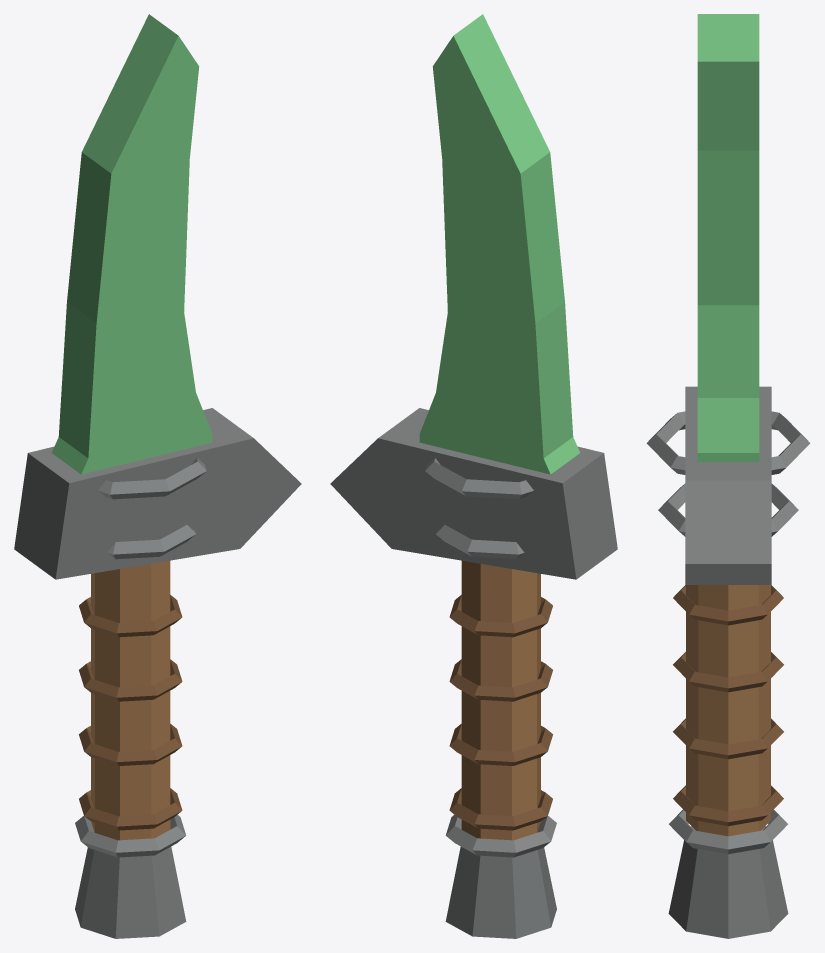
Rendered from t3_skinning_knife.glb.
3 views of the same model, side by side, from view 1: azimuth 30°, elevation 25°; view 2: azimuth 150°, elevation 25°; view 3: azimuth 270°, elevation 25° (orthographic). The views are drawn at different scales.
Visible parts, largest first — view 1: CurvedSkinningBlade, BladeGuard, WoodHandle, BottomPommel, PommelBand, GuardRing, LeatherWrap1, LeatherWrap3, LeatherWrap4, LeatherWrap2, BladeCollar; view 2: CurvedSkinningBlade, BladeGuard, WoodHandle, BottomPommel, PommelBand, GuardRing, LeatherWrap1, LeatherWrap3, LeatherWrap4, LeatherWrap2, BladeCollar; view 3: CurvedSkinningBlade, WoodHandle, BladeGuard, BottomPommel, GuardRing, PommelBand, LeatherWrap1, LeatherWrap2, LeatherWrap3, LeatherWrap4, BladeCollar.
Part boxes in pixels (x1,y1,x2,y2): CurvedSkinningBlade: [51, 14, 212, 474]; BladeGuard: [14, 408, 301, 579]; WoodHandle: [91, 560, 170, 840]; BottomPommel: [75, 846, 186, 938]; PommelBand: [75, 815, 186, 857]; GuardRing: [98, 458, 206, 499]; LeatherWrap1: [79, 788, 182, 830]; LeatherWrap3: [79, 659, 182, 701]; LeatherWrap4: [79, 595, 182, 637]; LeatherWrap2: [79, 724, 182, 765]; BladeCollar: [107, 525, 195, 559]; CurvedSkinningBlade: [419, 14, 580, 474]; BladeGuard: [330, 408, 617, 579]; WoodHandle: [461, 560, 540, 840]; BottomPommel: [445, 846, 556, 938]; PommelBand: [445, 815, 556, 857]; GuardRing: [425, 458, 533, 499]; LeatherWrap1: [449, 788, 552, 830]; LeatherWrap3: [449, 659, 552, 701]; LeatherWrap4: [449, 595, 552, 637]; LeatherWrap2: [449, 724, 552, 765]; BladeCollar: [436, 525, 524, 559]; CurvedSkinningBlade: [697, 14, 759, 462]; WoodHandle: [686, 585, 770, 836]; BladeGuard: [685, 386, 771, 584]; BottomPommel: [668, 826, 788, 938]; GuardRing: [646, 411, 810, 474]; PommelBand: [669, 809, 787, 854]; LeatherWrap1: [673, 785, 783, 826]; LeatherWrap2: [673, 718, 783, 759]; LeatherWrap3: [673, 652, 783, 692]; LeatherWrap4: [673, 585, 783, 625]; BladeCollar: [658, 483, 798, 536].
Size of the model in its own units: 0.36 by 1.23 by 0.2.
